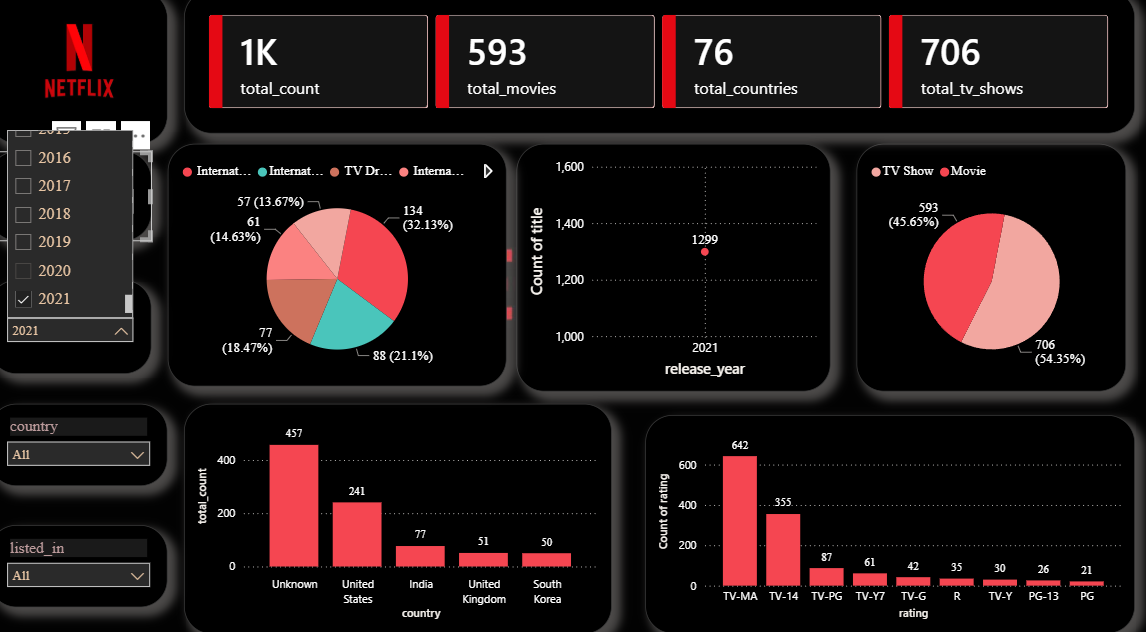

What the dashboard file says about the page in this screenshot:
{"tool":"powerbi","page":{"name":"Page 1","canvas":[1280,720],"ordinal":0},"visuals":[{"type":"pieChart","fields":{"Category":["netflix_titles.type"],"Y":["netflix_titles.total_count"]},"box":[952.3,168.8,296.4,271.7],"z":0},{"type":"cardVisual","fields":{"Data":["netflix_titles.total_count","netflix_titles.total_movies","netflix_titles.total_countries","netflix_titles.total_tv_shows"]},"box":[214.1,0,1044.3,157.8],"z":1000},{"type":"image","box":[0,0,196.2,168.8],"z":2000},{"type":"lineChart","fields":{"Category":["netflix_titles.release_year"],"Y":["CountNonNull(netflix_titles.title)"]},"box":[579.1,168.8,344.4,271.7],"z":3000},{"type":"columnChart","fields":{"Category":["netflix_titles.country"],"Y":["netflix_titles.total_count"]},"box":[214.1,454.2,469.3,252.5],"z":4000},{"type":"columnChart","fields":{"Category":["netflix_titles.rating"],"Y":["CountNonNull(netflix_titles.rating)"]},"box":[720.4,466.6,537.9,240.1],"z":5000},{"type":"pieChart","fields":{"Y":["CountNonNull(netflix_titles.listed_in)"],"Category":["netflix_titles.listed_in"]},"box":[196.2,168.8,371.9,266.2],"z":6000},{"type":"slicer","fields":{"Values":["netflix_titles.type"]},"box":[0,177,178.4,98.8],"z":7000},{"type":"slicer","fields":{"Values":["netflix_titles.release_year"]},"box":[0,318.4,178.4,102.9],"z":8000},{"type":"slicer","fields":{"Values":["netflix_titles.country"]},"box":[0,454.2,196.2,90.6],"z":9000},{"type":"slicer","fields":{"Values":["netflix_titles.listed_in"]},"box":[0,587.3,196.2,90.6],"z":9001}]}

Visuals, with their boxes in screenshot pixels (x1, y1, x2, y2), scaled from the page's 1280x720 canvas onto the 1146x632 screenshot:
pieChart - netflix_titles.type x netflix_titles.total_count: [x1=853, y1=148, x2=1118, y2=387]
cardVisual - netflix_titles.total_count x netflix_titles.total_movies: [x1=192, y1=0, x2=1127, y2=139]
image: [x1=0, y1=0, x2=176, y2=148]
lineChart - netflix_titles.release_year x CountNonNull(netflix_titles.title): [x1=518, y1=148, x2=827, y2=387]
columnChart - netflix_titles.country x netflix_titles.total_count: [x1=192, y1=399, x2=612, y2=620]
columnChart - netflix_titles.rating x CountNonNull(netflix_titles.rating): [x1=645, y1=410, x2=1127, y2=620]
pieChart - CountNonNull(netflix_titles.listed_in) x netflix_titles.listed_in: [x1=176, y1=148, x2=509, y2=382]
slicer - netflix_titles.type: [x1=0, y1=155, x2=160, y2=242]
slicer - netflix_titles.release_year: [x1=0, y1=279, x2=160, y2=370]
slicer - netflix_titles.country: [x1=0, y1=399, x2=176, y2=478]
slicer - netflix_titles.listed_in: [x1=0, y1=516, x2=176, y2=595]
